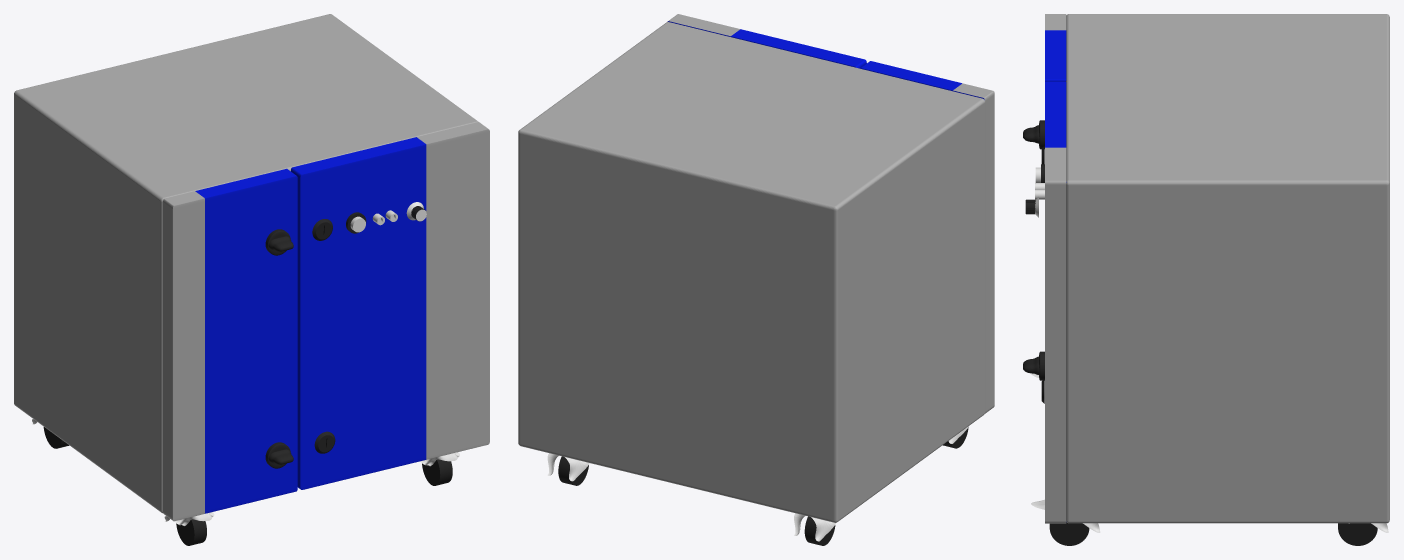
File: chiller.fbx
3 views of the same model, side by side, from view 1: azimuth 30°, elevation 25°; view 2: azimuth 150°, elevation 25°; view 3: azimuth 270°, elevation 25° (orthographic). The views are drawn at different scales.
Parts seen in each view (by area): view 1: Cube.003; view 2: Cube.003; view 3: Cube.003.
Part boxes in pixels (x1,y1,x2,y2): Cube.003: (14,14,489,545); Cube.003: (518,14,994,545); Cube.003: (1023,14,1389,545).
Size of the model in its own units: 74 by 78.21 by 67.88.
